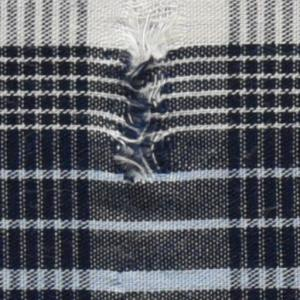Damage: (106, 1, 189, 191)
